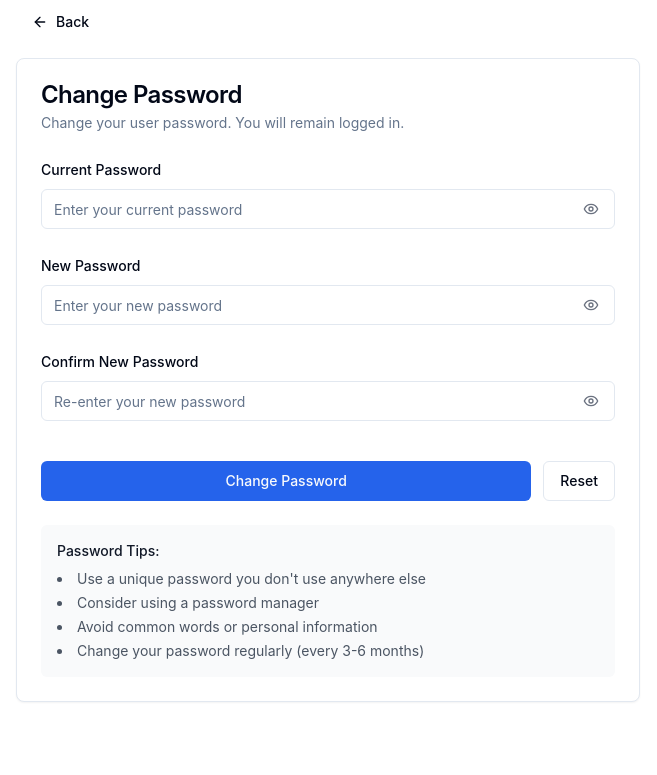
Scenario: ChangePasswordPage › Form Validation › should show error when new password is empty
Type "currentpass" into the password field labelled "Current Password".
click(328, 209); type("currentpass")  # box [41,189,615,229]
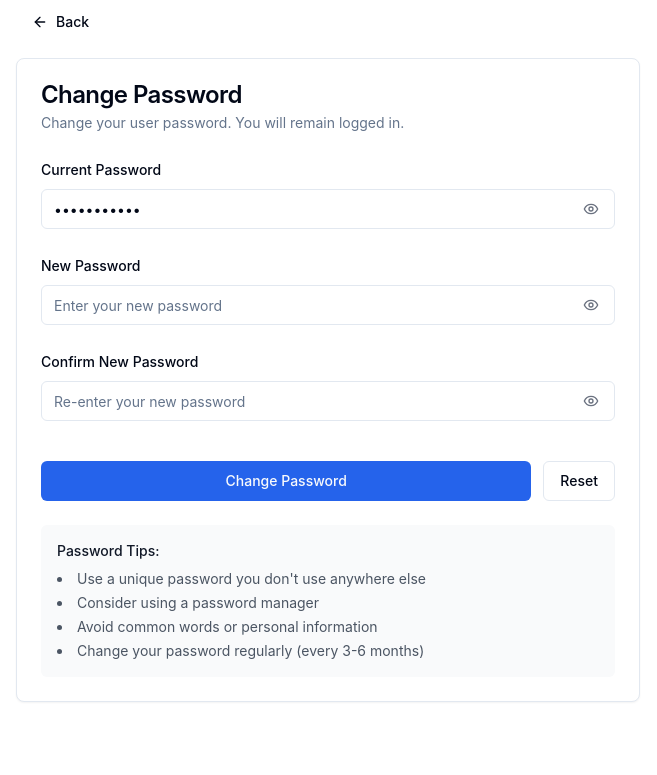
Click the button "Change Password".
click(286, 481)  # box [41,461,531,501]
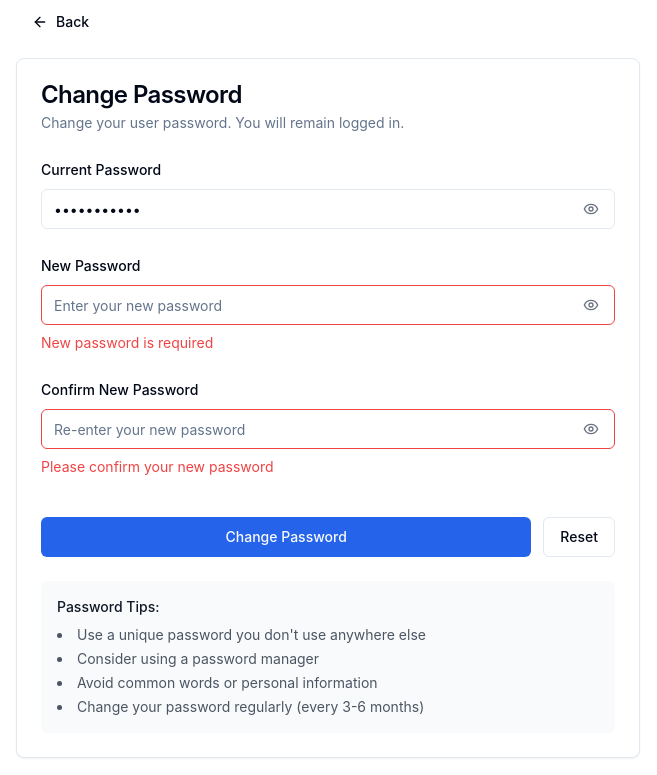
Expected: the text "New password is required" is shown, [41,334,213,351]
